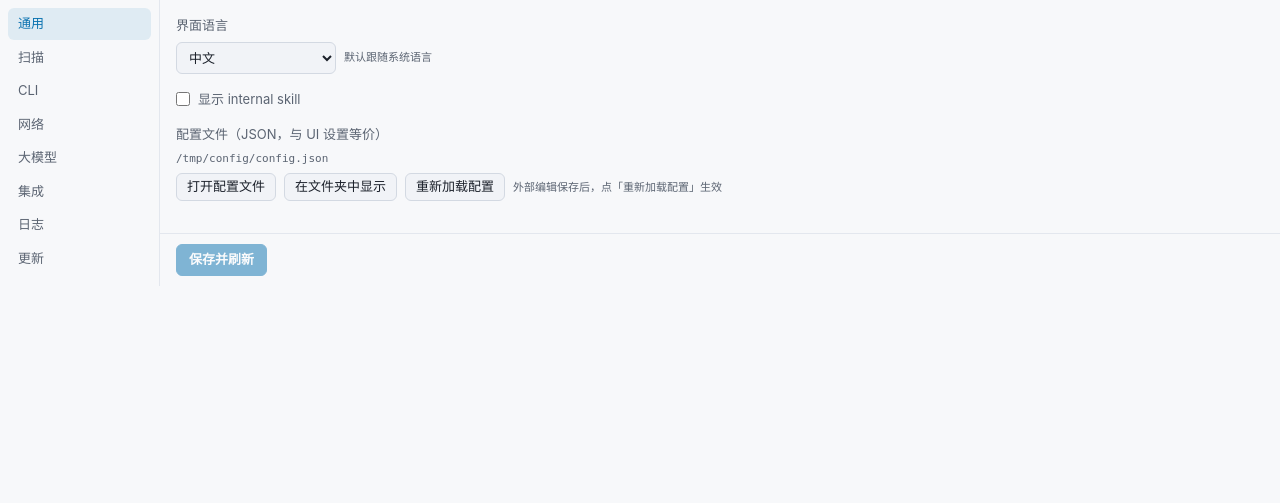
it: SettingsView LLM › hides the configuration until the model is enabled
Click the button "大模型": coordinates (80, 158) [8,142,151,174]
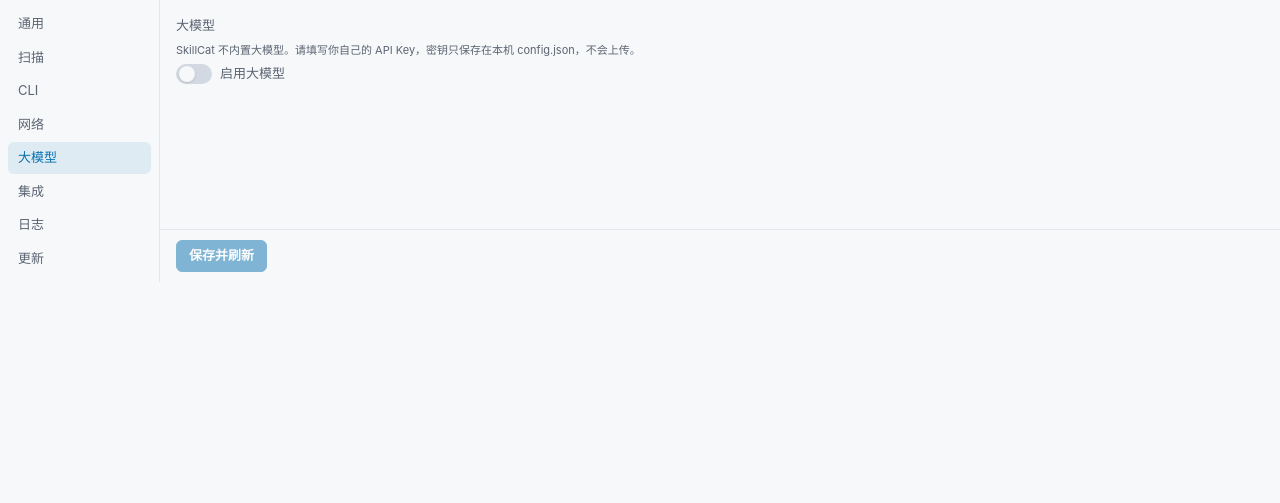
expect the dropdown labelled "服务商" is not shown: met
expect the button "测试连接" is not shown: met
Click the switch named "启用大模型": coordinates (194, 74) [176,64,212,84]
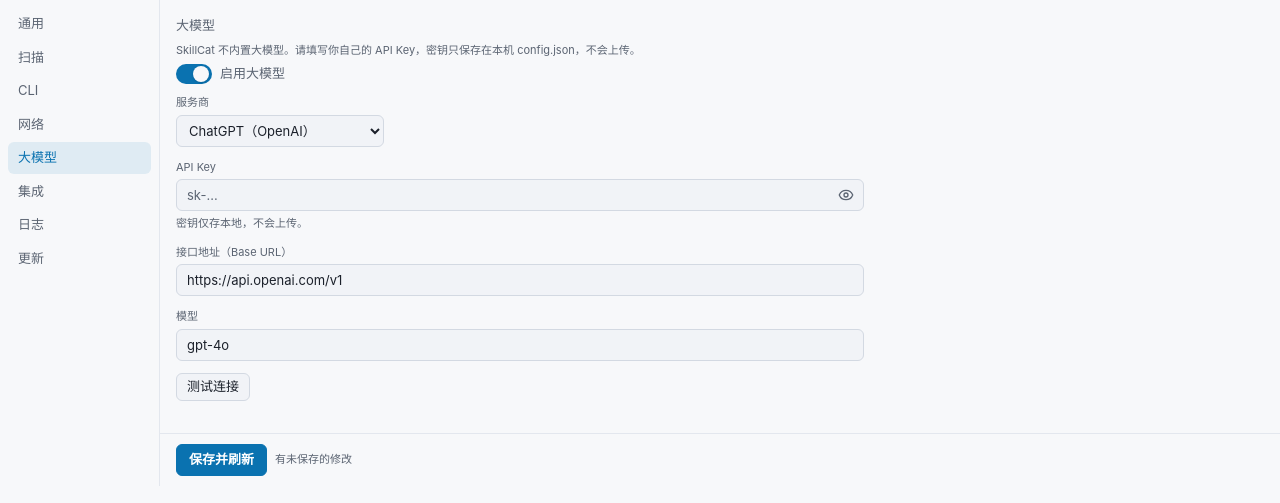
expect the dropdown named "服务商" is shown: met, box [176,114,384,146]
expect the button "测试连接" is shown: met, box [176,372,250,400]
